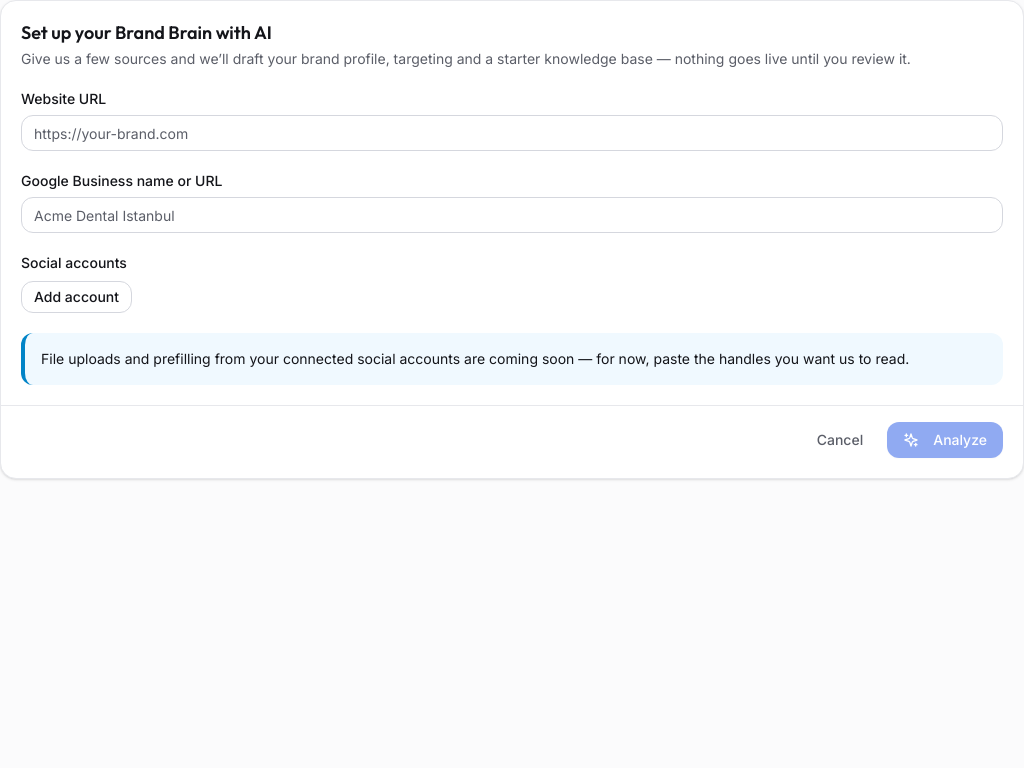
Test: BrandBrainWizard › starts a run from a website URL, then applies the full draft on review (G4: knowledgeDocs survives)
In the field labelled "Website URL": (512, 133) [21, 115, 1003, 151], type "https://acme.com"
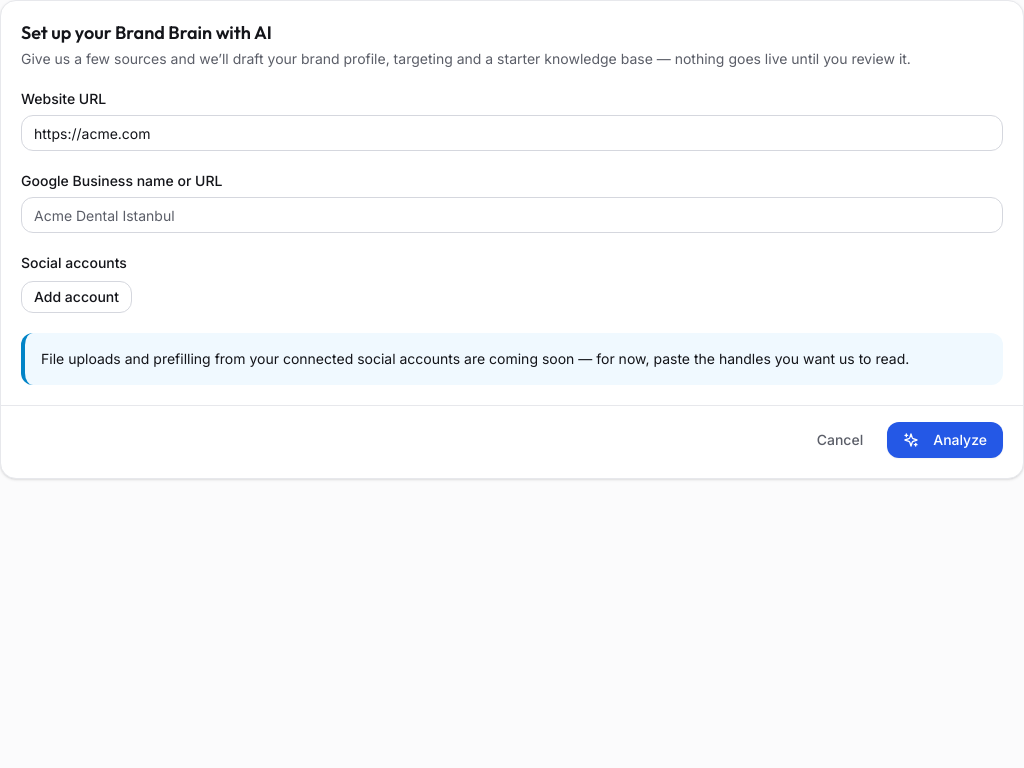
Click the button "Analyze": (945, 440) [887, 422, 1003, 458]
(page scrolled)
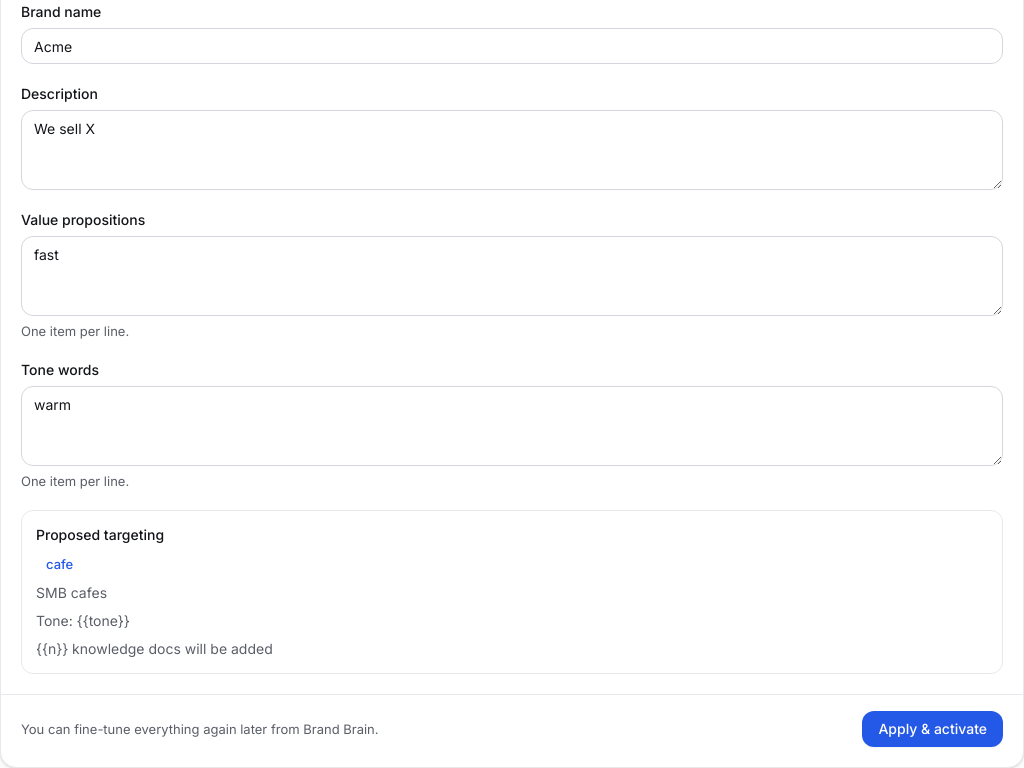
Result: the field showing "Acme" is shown at [21, 28, 1003, 64]
Click the button "Apply & activate": (933, 729) [862, 711, 1003, 747]
(page scrolled)
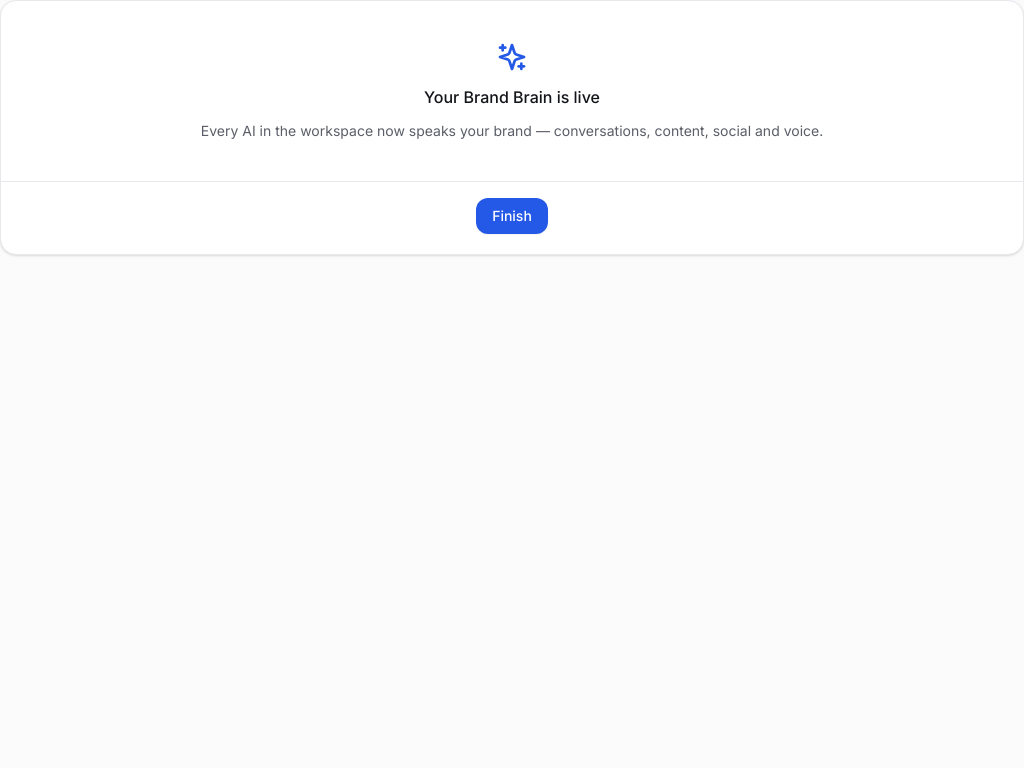
Result: the button "Finish" is shown at [476, 198, 548, 234]
